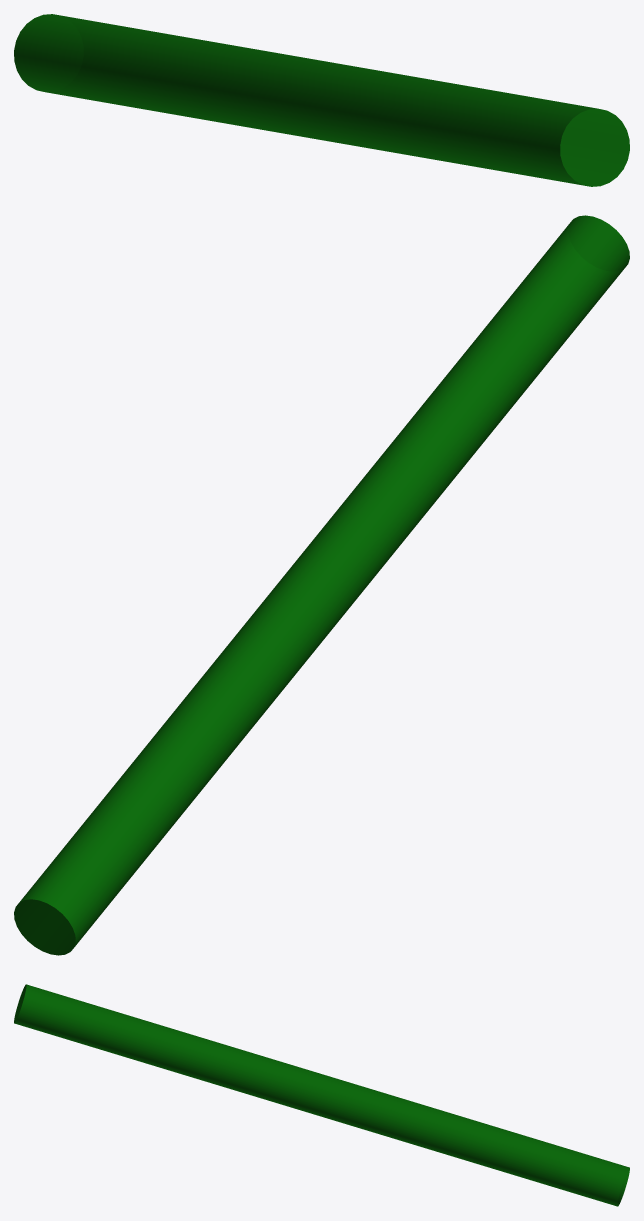
Rendered from Event_191826238_jet_2.fbx.
3 renders of one model, top to bottom at view 1: azimuth 30°, elevation 25°; view 2: azimuth 150°, elevation 25°; view 3: azimuth 270°, elevation 25°, orthographic. The views are drawn at different scales.
Parts seen in each view (by area): view 1: Model; view 2: Model; view 3: Model.
Part boxes in pixels (x1=…): Model: x1=14, y1=14, x2=629, y2=186; Model: x1=14, y1=215, x2=629, y2=955; Model: x1=14, y1=984, x2=629, y2=1206.
Bounding box in the file's own units: 0.0581 × 0.2263 × 0.5994.
